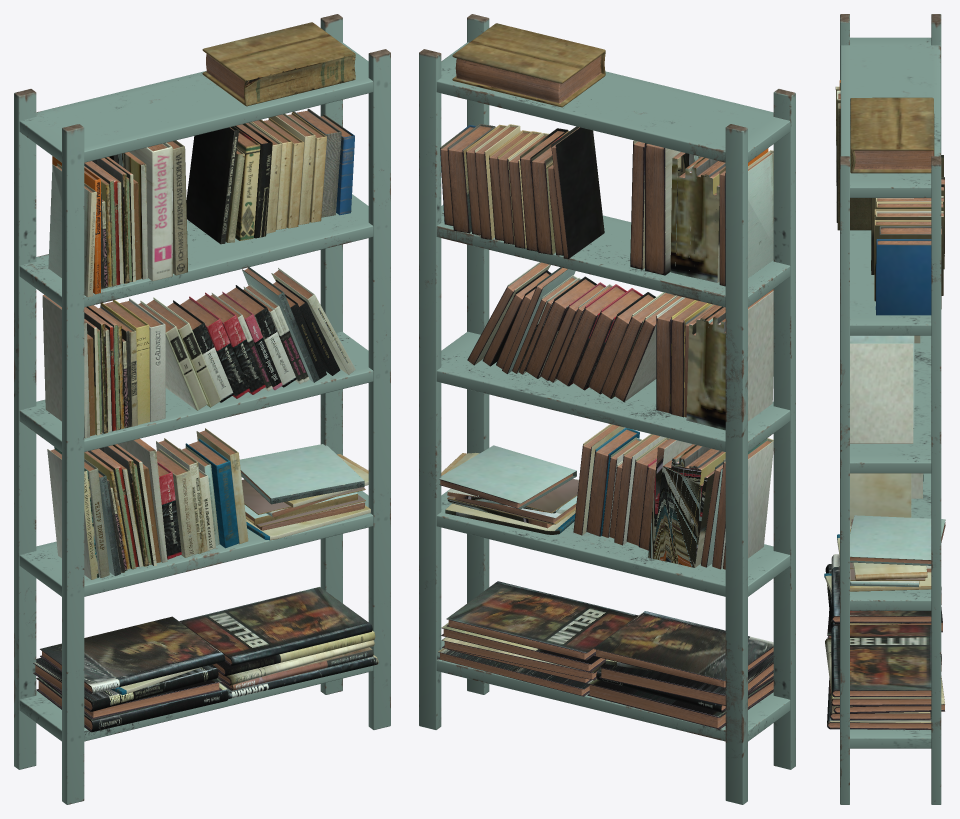
The picture shows the model from 3 angles, left to right: view 1: azimuth 30°, elevation 25°; view 2: azimuth 150°, elevation 25°; view 3: azimuth 270°, elevation 25°; orthographic projection. The views are drawn at different scales.
Parts seen in each view (by area): view 1: Shelf.V, Shelf.H, OldBigBook, Book.033, Plane, Book.037, Plane.001, Plane.009, Book.028, Book.050, Book.038, Book.041 (+48 smaller); view 2: Shelf.V, Shelf.H, OldBigBook, Book.033, Plane, Book.037, Plane.001, Plane.009, Book.050, Book.028, Book.038, Book.034 (+45 smaller); view 3: Shelf.H, Shelf.V, Book.033, Book.016, OldBigBook, Book.052, Book.028, Book.026, Book.037, Plane.007, Book.039, Book.029 (+15 smaller).
Part boxes in pixels (<box>): Shelf.V: <box>14,14,390,804</box>; Shelf.H: <box>19,42,373,741</box>; OldBigBook: <box>202,22,355,106</box>; Book.033: <box>179,587,372,665</box>; Plane: <box>42,294,132,438</box>; Book.037: <box>40,616,225,693</box>; Plane.001: <box>84,438,167,572</box>; Plane.009: <box>84,152,147,288</box>; Book.028: <box>239,444,364,504</box>; Book.050: <box>186,126,238,244</box>; Book.038: <box>129,142,172,281</box>; Book.041: <box>48,163,96,297</box>; Shelf.V: <box>419,14,795,804</box>; Shelf.H: <box>436,42,790,741</box>; OldBigBook: <box>452,23,605,107</box>; Book.033: <box>446,581,638,660</box>; Plane: <box>686,289,773,430</box>; Book.037: <box>594,611,773,688</box>; Plane.001: <box>648,438,725,567</box>; Plane.009: <box>670,152,725,282</box>; Book.050: <box>551,126,604,258</box>; Book.028: <box>439,445,576,509</box>; Book.038: <box>645,143,680,275</box>; Book.034: <box>587,678,773,729</box>; Shelf.H: <box>840,37,940,748</box>; Shelf.V: <box>840,14,941,804</box>; Book.033: <box>831,625,931,697</box>; Book.016: <box>850,343,913,443</box>; OldBigBook: <box>850,97,934,173</box>; Book.052: <box>875,239,931,315</box>; Book.028: <box>850,515,945,565</box>; Book.026: <box>850,473,911,525</box>; Book.037: <box>831,554,931,623</box>; Plane.007: <box>850,529,927,580</box>; Book.039: <box>837,103,871,230</box>; Book.029: <box>827,654,941,729</box>.
Size of the model in its own units: 253 by 502 by 86.07.
Materials: 8 (8 with a texture image).
